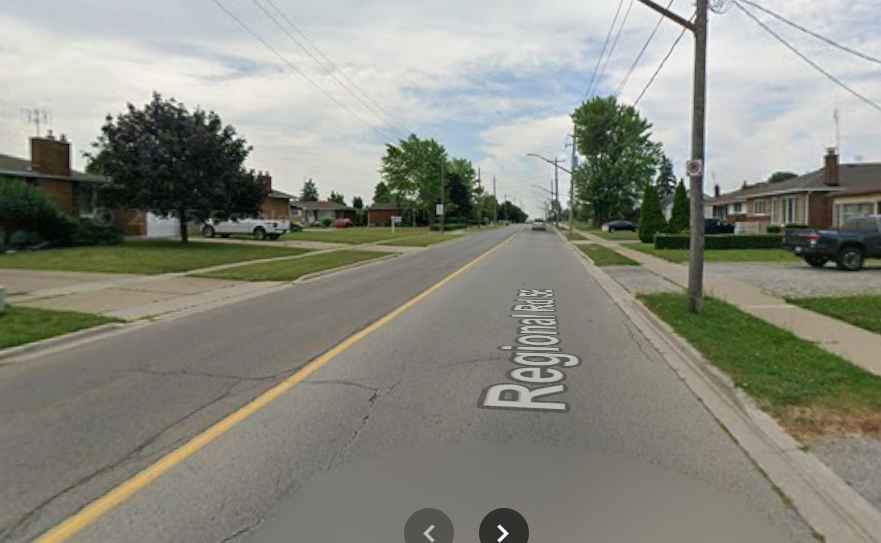cracks: (2, 408, 202, 535), (161, 361, 385, 411)
